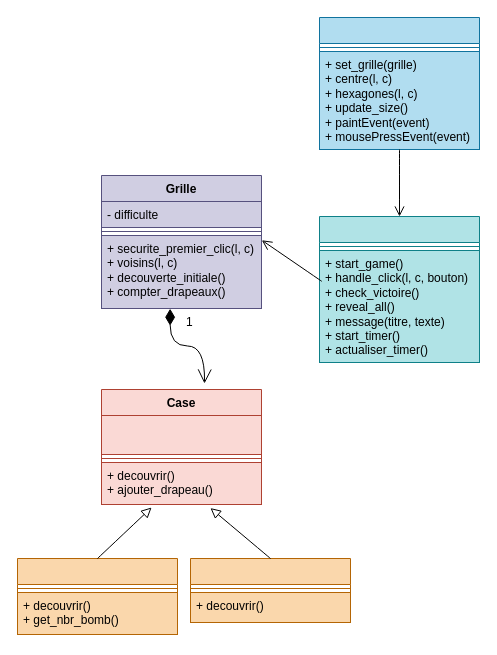
Image size: 497x655. Some labels were removed from this diagram. The shapes that lost their labels are listed below. From the top down, each one's box as (x1, y1, x2, y2) in pixels, then its label:
(318, 16, 480, 150): HexaBoard
(318, 216, 480, 362): Window
(100, 414, 262, 454): - position - grille
(16, 558, 178, 634): CaseVide
(190, 558, 350, 622): CaseBombe
